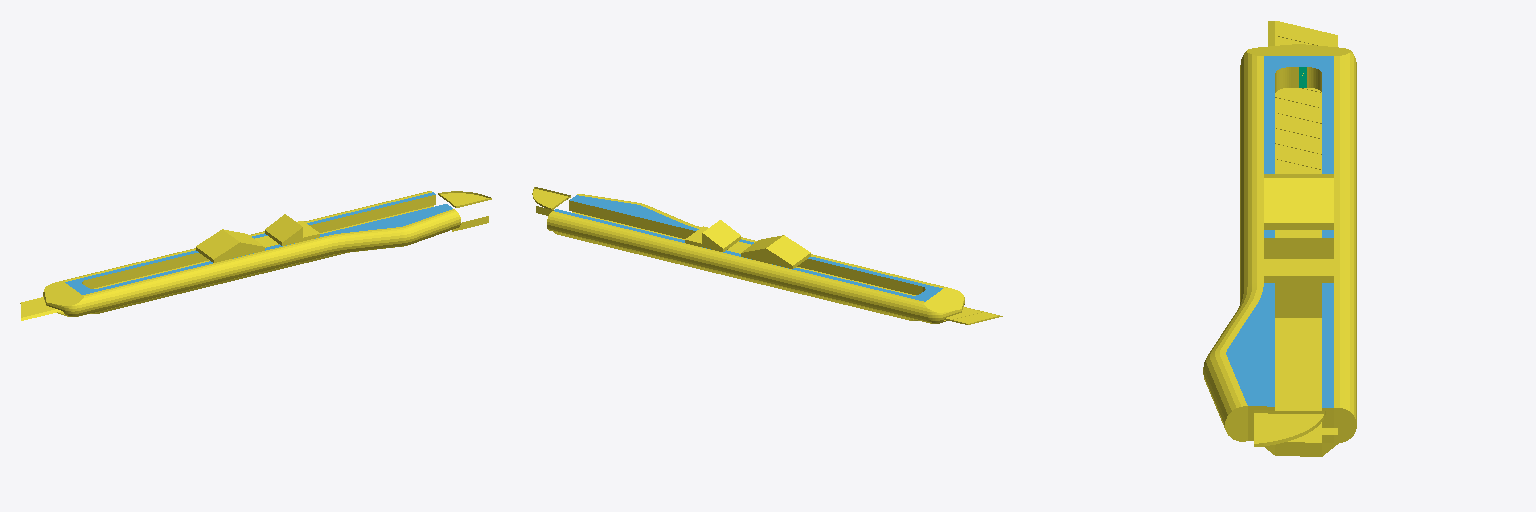
The robot description file, URDF, robot "partnet_3ffbb0ab0f8da32f86271197b958e3d5":
<?xml version="1.0" ?>
<robot name="partnet_3ffbb0ab0f8da32f86271197b958e3d5">
	<link name="base"/>
	<link name="link_0">
		<visual name="slider-1">
			<origin xyz="0 0 0"/>
			<geometry>
				<mesh filename="textured_objs/original-34.obj" scale="0.3 0.3 0.3"/>
			</geometry>
		</visual>
		<collision>
			<origin xyz="0 0 0"/>
			<geometry>
				<mesh filename="textured_objs/original-34.obj" scale="0.3 0.3 0.3"/>
			</geometry>
		</collision>
	</link>
	<joint name="joint_0" type="prismatic">
		<origin xyz="0 0 0"/>
		<axis xyz="0 -1 0"/>
		<child link="link_0"/>
		<parent link="link_2"/>
		<limit lower="0" upper="0.4039999999999999"/>
	</joint>
	<link name="link_1">
		<visual name="slider-2">
			<origin xyz="0 0 0"/>
			<geometry>
				<mesh filename="textured_objs/original-33.obj" scale="0.3 0.3 0.3"/>
			</geometry>
		</visual>
		<collision>
			<origin xyz="0 0 0"/>
			<geometry>
				<mesh filename="textured_objs/original-33.obj" scale="0.3 0.3 0.3"/>
			</geometry>
		</collision>
	</link>
	<joint name="joint_1" type="prismatic">
		<origin xyz="0 0 0"/>
		<axis xyz="0 -1 0"/>
		<child link="link_1"/>
		<parent link="link_2"/>
		<limit lower="0" upper="0.4039999999999999"/>
	</joint>
	<link name="link_2">
		<visual name="base_body-3">
			<origin xyz="0 0 0"/>
			<geometry>
				<mesh filename="textured_objs/original-29.obj" scale="0.3 0.3 0.3"/>
			</geometry>
		</visual>
		<visual name="base_body-3">
			<origin xyz="0 0 0"/>
			<geometry>
				<mesh filename="textured_objs/original-21.obj" scale="0.3 0.3 0.3"/>
			</geometry>
		</visual>
		<visual name="base_body-3">
			<origin xyz="0 0 0"/>
			<geometry>
				<mesh filename="textured_objs/original-30.obj" scale="0.3 0.3 0.3"/>
			</geometry>
		</visual>
		<visual name="base_body-3">
			<origin xyz="0 0 0"/>
			<geometry>
				<mesh filename="textured_objs/original-36.obj" scale="0.3 0.3 0.3"/>
			</geometry>
		</visual>
		<visual name="base_body-3">
			<origin xyz="0 0 0"/>
			<geometry>
				<mesh filename="textured_objs/original-28.obj" scale="0.3 0.3 0.3"/>
			</geometry>
		</visual>
		<visual name="base_body-3">
			<origin xyz="0 0 0"/>
			<geometry>
				<mesh filename="textured_objs/original-22.obj" scale="0.3 0.3 0.3"/>
			</geometry>
		</visual>
		<visual name="base_body-3">
			<origin xyz="0 0 0"/>
			<geometry>
				<mesh filename="textured_objs/original-26.obj" scale="0.3 0.3 0.3"/>
			</geometry>
		</visual>
		<visual name="base_body-3">
			<origin xyz="0 0 0"/>
			<geometry>
				<mesh filename="textured_objs/original-4.obj" scale="0.3 0.3 0.3"/>
			</geometry>
		</visual>
		<visual name="base_body-3">
			<origin xyz="0 0 0"/>
			<geometry>
				<mesh filename="textured_objs/original-3.obj" scale="0.3 0.3 0.3"/>
			</geometry>
		</visual>
		<visual name="base_body-3">
			<origin xyz="0 0 0"/>
			<geometry>
				<mesh filename="textured_objs/original-2.obj" scale="0.3 0.3 0.3"/>
			</geometry>
		</visual>
		<visual name="base_body-3">
			<origin xyz="0 0 0"/>
			<geometry>
				<mesh filename="textured_objs/original-16.obj" scale="0.3 0.3 0.3"/>
			</geometry>
		</visual>
		<visual name="base_body-3">
			<origin xyz="0 0 0"/>
			<geometry>
				<mesh filename="textured_objs/original-13.obj" scale="0.3 0.3 0.3"/>
			</geometry>
		</visual>
		<visual name="base_body-3">
			<origin xyz="0 0 0"/>
			<geometry>
				<mesh filename="textured_objs/original-9.obj" scale="0.3 0.3 0.3"/>
			</geometry>
		</visual>
		<visual name="base_body-3">
			<origin xyz="0 0 0"/>
			<geometry>
				<mesh filename="textured_objs/original-35.obj" scale="0.3 0.3 0.3"/>
			</geometry>
		</visual>
		<visual name="base_body-3">
			<origin xyz="0 0 0"/>
			<geometry>
				<mesh filename="textured_objs/original-5.obj" scale="0.3 0.3 0.3"/>
			</geometry>
		</visual>
		<visual name="base_body-3">
			<origin xyz="0 0 0"/>
			<geometry>
				<mesh filename="textured_objs/original-27.obj" scale="0.3 0.3 0.3"/>
			</geometry>
		</visual>
		<visual name="base_body-3">
			<origin xyz="0 0 0"/>
			<geometry>
				<mesh filename="textured_objs/original-6.obj" scale="0.3 0.3 0.3"/>
			</geometry>
		</visual>
		<visual name="base_body-3">
			<origin xyz="0 0 0"/>
			<geometry>
				<mesh filename="textured_objs/original-31.obj" scale="0.3 0.3 0.3"/>
			</geometry>
		</visual>
		<visual name="base_body-3">
			<origin xyz="0 0 0"/>
			<geometry>
				<mesh filename="textured_objs/original-15.obj" scale="0.3 0.3 0.3"/>
			</geometry>
		</visual>
		<visual name="base_body-3">
			<origin xyz="0 0 0"/>
			<geometry>
				<mesh filename="textured_objs/original-23.obj" scale="0.3 0.3 0.3"/>
			</geometry>
		</visual>
		<visual name="base_body-3">
			<origin xyz="0 0 0"/>
			<geometry>
				<mesh filename="textured_objs/original-11.obj" scale="0.3 0.3 0.3"/>
			</geometry>
		</visual>
		<visual name="base_body-3">
			<origin xyz="0 0 0"/>
			<geometry>
				<mesh filename="textured_objs/original-18.obj" scale="0.3 0.3 0.3"/>
			</geometry>
		</visual>
		<visual name="base_body-3">
			<origin xyz="0 0 0"/>
			<geometry>
				<mesh filename="textured_objs/original-25.obj" scale="0.3 0.3 0.3"/>
			</geometry>
		</visual>
		<visual name="base_body-3">
			<origin xyz="0 0 0"/>
			<geometry>
				<mesh filename="textured_objs/original-17.obj" scale="0.3 0.3 0.3"/>
			</geometry>
		</visual>
		<visual name="base_body-3">
			<origin xyz="0 0 0"/>
			<geometry>
				<mesh filename="textured_objs/original-12.obj" scale="0.3 0.3 0.3"/>
			</geometry>
		</visual>
		<visual name="base_body-3">
			<origin xyz="0 0 0"/>
			<geometry>
				<mesh filename="textured_objs/original-24.obj" scale="0.3 0.3 0.3"/>
			</geometry>
		</visual>
		<visual name="base_body-3">
			<origin xyz="0 0 0"/>
			<geometry>
				<mesh filename="textured_objs/original-20.obj" scale="0.3 0.3 0.3"/>
			</geometry>
		</visual>
		<visual name="base_body-3">
			<origin xyz="0 0 0"/>
			<geometry>
				<mesh filename="textured_objs/original-32.obj" scale="0.3 0.3 0.3"/>
			</geometry>
		</visual>
		<visual name="base_body-3">
			<origin xyz="0 0 0"/>
			<geometry>
				<mesh filename="textured_objs/original-1.obj" scale="0.3 0.3 0.3"/>
			</geometry>
		</visual>
		<visual name="base_body-3">
			<origin xyz="0 0 0"/>
			<geometry>
				<mesh filename="textured_objs/original-10.obj" scale="0.3 0.3 0.3"/>
			</geometry>
		</visual>
		<visual name="base_body-3">
			<origin xyz="0 0 0"/>
			<geometry>
				<mesh filename="textured_objs/original-14.obj" scale="0.3 0.3 0.3"/>
			</geometry>
		</visual>
		<visual name="base_body-3">
			<origin xyz="0 0 0"/>
			<geometry>
				<mesh filename="textured_objs/original-19.obj" scale="0.3 0.3 0.3"/>
			</geometry>
		</visual>
		<collision>
			<origin xyz="0 0 0"/>
			<geometry>
				<mesh filename="textured_objs/original-29.obj" scale="0.3 0.3 0.3"/>
			</geometry>
		</collision>
		<collision>
			<origin xyz="0 0 0"/>
			<geometry>
				<mesh filename="textured_objs/original-21.obj" scale="0.3 0.3 0.3"/>
			</geometry>
		</collision>
		<collision>
			<origin xyz="0 0 0"/>
			<geometry>
				<mesh filename="textured_objs/original-30.obj" scale="0.3 0.3 0.3"/>
			</geometry>
		</collision>
		<collision>
			<origin xyz="0 0 0"/>
			<geometry>
				<mesh filename="textured_objs/original-36.obj" scale="0.3 0.3 0.3"/>
			</geometry>
		</collision>
		<collision>
			<origin xyz="0 0 0"/>
			<geometry>
				<mesh filename="textured_objs/original-28.obj" scale="0.3 0.3 0.3"/>
			</geometry>
		</collision>
		<collision>
			<origin xyz="0 0 0"/>
			<geometry>
				<mesh filename="textured_objs/original-22.obj" scale="0.3 0.3 0.3"/>
			</geometry>
		</collision>
		<collision>
			<origin xyz="0 0 0"/>
			<geometry>
				<mesh filename="textured_objs/original-26.obj" scale="0.3 0.3 0.3"/>
			</geometry>
		</collision>
		<collision>
			<origin xyz="0 0 0"/>
			<geometry>
				<mesh filename="textured_objs/original-4.obj" scale="0.3 0.3 0.3"/>
			</geometry>
		</collision>
		<collision>
			<origin xyz="0 0 0"/>
			<geometry>
				<mesh filename="textured_objs/original-3.obj" scale="0.3 0.3 0.3"/>
			</geometry>
		</collision>
		<collision>
			<origin xyz="0 0 0"/>
			<geometry>
				<mesh filename="textured_objs/original-2.obj" scale="0.3 0.3 0.3"/>
			</geometry>
		</collision>
		<collision>
			<origin xyz="0 0 0"/>
			<geometry>
				<mesh filename="textured_objs/original-16.obj" scale="0.3 0.3 0.3"/>
			</geometry>
		</collision>
		<collision>
			<origin xyz="0 0 0"/>
			<geometry>
				<mesh filename="textured_objs/original-13.obj" scale="0.3 0.3 0.3"/>
			</geometry>
		</collision>
		<collision>
			<origin xyz="0 0 0"/>
			<geometry>
				<mesh filename="textured_objs/original-9.obj" scale="0.3 0.3 0.3"/>
			</geometry>
		</collision>
		<collision>
			<origin xyz="0 0 0"/>
			<geometry>
				<mesh filename="textured_objs/original-35.obj" scale="0.3 0.3 0.3"/>
			</geometry>
		</collision>
		<collision>
			<origin xyz="0 0 0"/>
			<geometry>
				<mesh filename="textured_objs/original-5.obj" scale="0.3 0.3 0.3"/>
			</geometry>
		</collision>
		<collision>
			<origin xyz="0 0 0"/>
			<geometry>
				<mesh filename="textured_objs/original-27.obj" scale="0.3 0.3 0.3"/>
			</geometry>
		</collision>
		<collision>
			<origin xyz="0 0 0"/>
			<geometry>
				<mesh filename="textured_objs/original-6.obj" scale="0.3 0.3 0.3"/>
			</geometry>
		</collision>
		<collision>
			<origin xyz="0 0 0"/>
			<geometry>
				<mesh filename="textured_objs/original-31.obj" scale="0.3 0.3 0.3"/>
			</geometry>
		</collision>
		<collision>
			<origin xyz="0 0 0"/>
			<geometry>
				<mesh filename="textured_objs/original-15.obj" scale="0.3 0.3 0.3"/>
			</geometry>
		</collision>
		<collision>
			<origin xyz="0 0 0"/>
			<geometry>
				<mesh filename="textured_objs/original-23.obj" scale="0.3 0.3 0.3"/>
			</geometry>
		</collision>
		<collision>
			<origin xyz="0 0 0"/>
			<geometry>
				<mesh filename="textured_objs/original-11.obj" scale="0.3 0.3 0.3"/>
			</geometry>
		</collision>
		<collision>
			<origin xyz="0 0 0"/>
			<geometry>
				<mesh filename="textured_objs/original-18.obj" scale="0.3 0.3 0.3"/>
			</geometry>
		</collision>
		<collision>
			<origin xyz="0 0 0"/>
			<geometry>
				<mesh filename="textured_objs/original-25.obj" scale="0.3 0.3 0.3"/>
			</geometry>
		</collision>
		<collision>
			<origin xyz="0 0 0"/>
			<geometry>
				<mesh filename="textured_objs/original-17.obj" scale="0.3 0.3 0.3"/>
			</geometry>
		</collision>
		<collision>
			<origin xyz="0 0 0"/>
			<geometry>
				<mesh filename="textured_objs/original-12.obj" scale="0.3 0.3 0.3"/>
			</geometry>
		</collision>
		<collision>
			<origin xyz="0 0 0"/>
			<geometry>
				<mesh filename="textured_objs/original-24.obj" scale="0.3 0.3 0.3"/>
			</geometry>
		</collision>
		<collision>
			<origin xyz="0 0 0"/>
			<geometry>
				<mesh filename="textured_objs/original-20.obj" scale="0.3 0.3 0.3"/>
			</geometry>
		</collision>
		<collision>
			<origin xyz="0 0 0"/>
			<geometry>
				<mesh filename="textured_objs/original-32.obj" scale="0.3 0.3 0.3"/>
			</geometry>
		</collision>
		<collision>
			<origin xyz="0 0 0"/>
			<geometry>
				<mesh filename="textured_objs/original-1.obj" scale="0.3 0.3 0.3"/>
			</geometry>
		</collision>
		<collision>
			<origin xyz="0 0 0"/>
			<geometry>
				<mesh filename="textured_objs/original-10.obj" scale="0.3 0.3 0.3"/>
			</geometry>
		</collision>
		<collision>
			<origin xyz="0 0 0"/>
			<geometry>
				<mesh filename="textured_objs/original-14.obj" scale="0.3 0.3 0.3"/>
			</geometry>
		</collision>
		<collision>
			<origin xyz="0 0 0"/>
			<geometry>
				<mesh filename="textured_objs/original-19.obj" scale="0.3 0.3 0.3"/>
			</geometry>
		</collision>
	</link>
	<joint name="joint_2" type="fixed">
		<origin rpy="1.570796326794897 0 -1.570796326794897" xyz="0 0 0"/>
		<child link="link_2"/>
		<parent link="base"/>
	</joint>
</robot>

--- What the picture shows (computed from the rendered views, not written in the file) ---
The picture shows the robot from 3 angles, left to right: view 1: azimuth 30°, elevation 25°; view 2: azimuth 150°, elevation 25°; view 3: azimuth 270°, elevation 25°; orthographic projection.
Robot: partnet_3ffbb0ab0f8da32f86271197b958e3d5 — 4 links, 3 joints (2 prismatic, 1 fixed); root link base; default pose: all joints at 0.
Visible links, largest first — view 1: link_2, link_0; view 2: link_2, link_0; view 3: link_2, link_0.
Link boxes in pixels (x1,y1,x2,y2): link_2: (20,191,491,320); link_0: (65,192,452,294); link_2: (532,187,1002,324); link_0: (554,195,942,301); link_2: (1203,21,1356,456); link_0: (1226,56,1333,407).
Size in the robot's own frame: 0.5937 by 0.0867 by 0.0483 metres.
Meshes: 34 distinct files referenced, 21 mesh visuals loaded (21 OBJ); not drawn: 13 (reference not matched to a file when rendering).